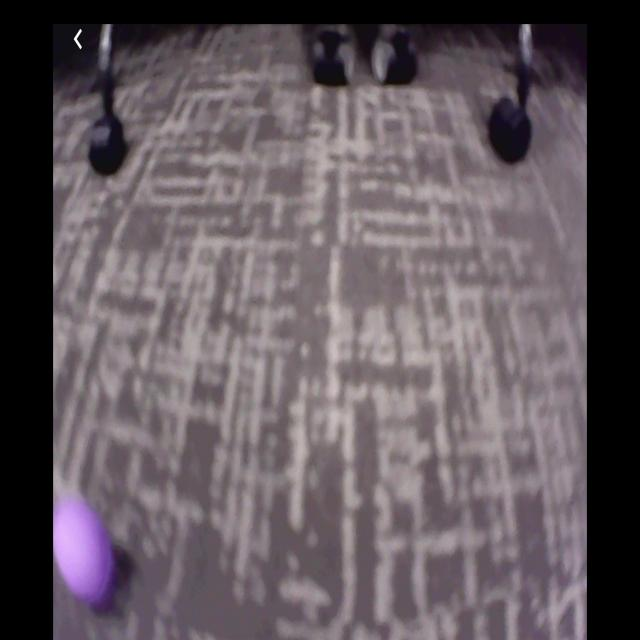ball: (57, 490, 112, 620)
